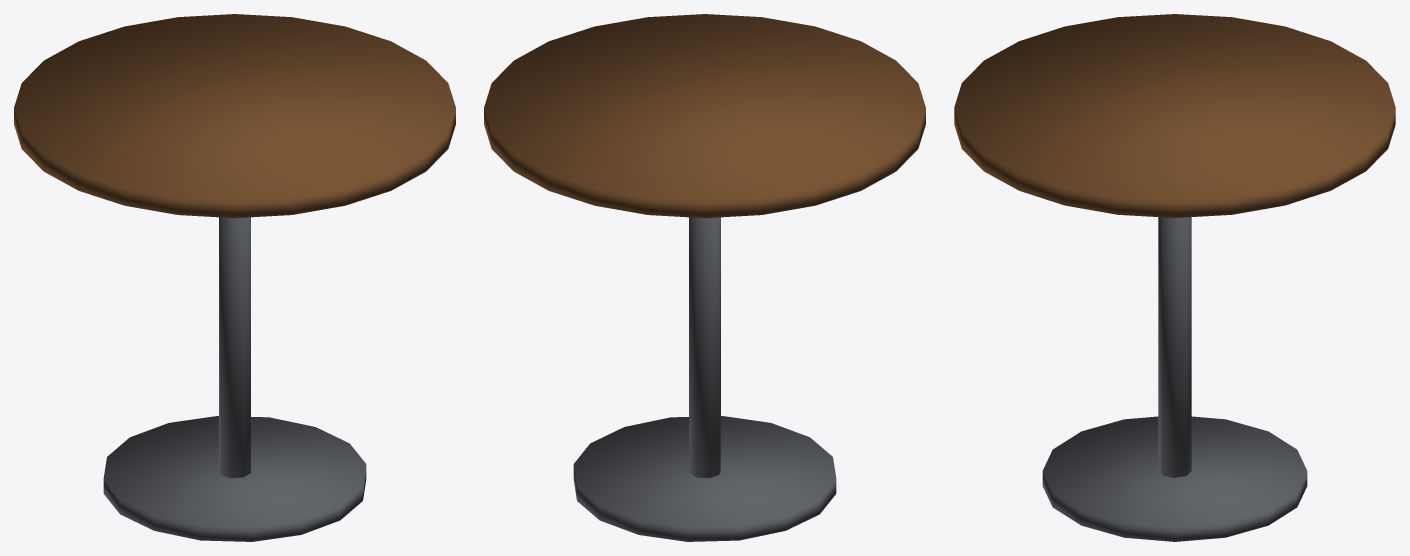
File: bistro_table.glb
3 renders of one model, left to right at view 1: azimuth 30°, elevation 25°; view 2: azimuth 150°, elevation 25°; view 3: azimuth 270°, elevation 25°, orthographic.
Parts seen in each view (by area): view 1: bistro_table; view 2: bistro_table; view 3: bistro_table.
Part boxes in pixels (x1,y1,x2,y2): bistro_table: (14,14,455,541); bistro_table: (484,14,925,541); bistro_table: (954,14,1395,541).
Size of the model in its own units: 0.8 by 0.7575 by 0.8.
Materials: 1 (1 with a texture image).
